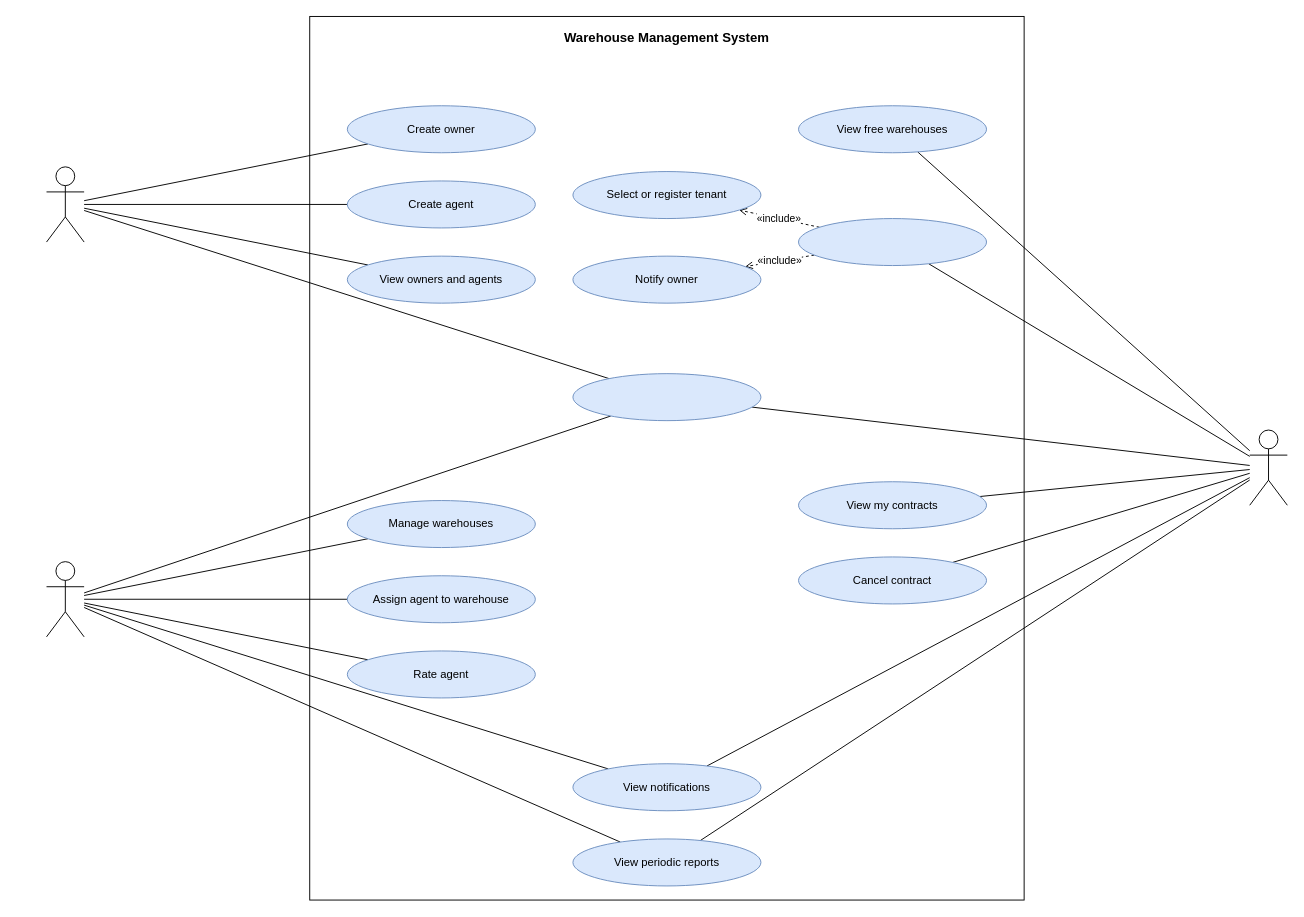
Image size: 1304x917. Some labels were removed from this diagram. Each missing label, with the centre of its shape:
"Administrator" goes at [65,204].
"Agent" goes at [1268,467].
"Log in" goes at [666,397].
"Rent warehouse" goes at [892,242].
"Warehouse Owner" goes at [65,599].
